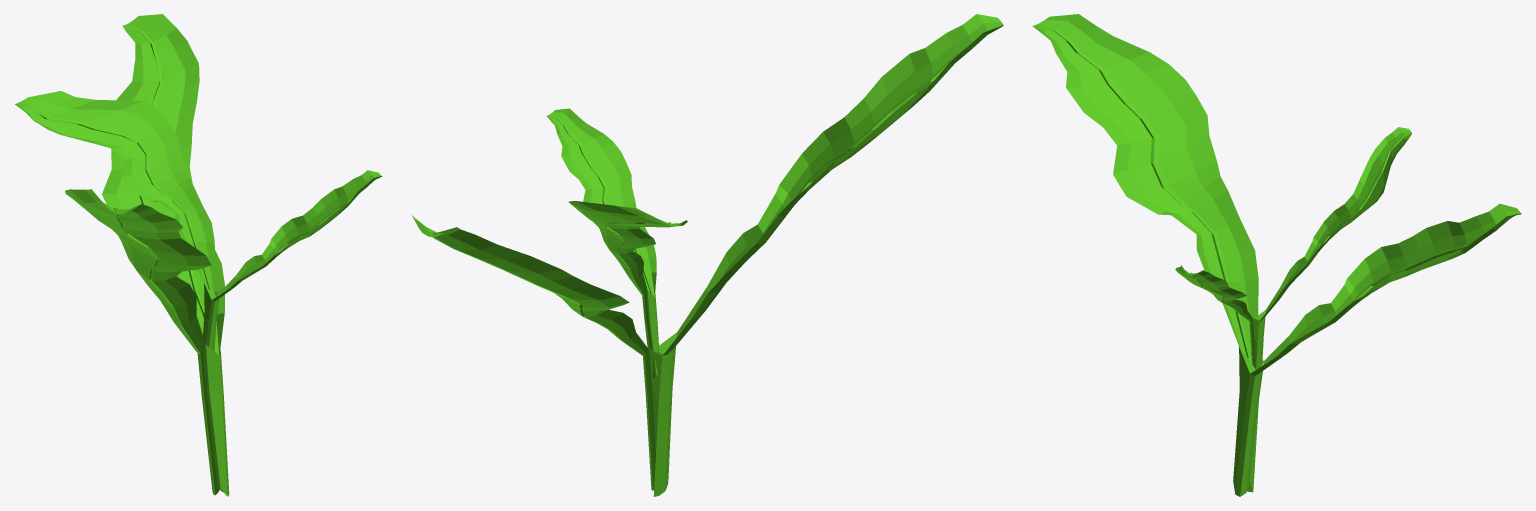
File: lettuce1.fbx
The picture shows the model from 3 angles, left to right: view 1: azimuth 30°, elevation 25°; view 2: azimuth 150°, elevation 25°; view 3: azimuth 270°, elevation 25°; orthographic projection. The views are drawn at different scales.
Visible parts, largest first — view 1: lettuce stage 1; view 2: lettuce stage 1; view 3: lettuce stage 1.
Boxes of the visible parts, x1,y1,x2,y2 form: lettuce stage 1: [15, 14, 382, 496]; lettuce stage 1: [412, 14, 1003, 496]; lettuce stage 1: [1032, 14, 1521, 496].
Size of the model in its own units: 22.92 by 26.31 by 30.48.
